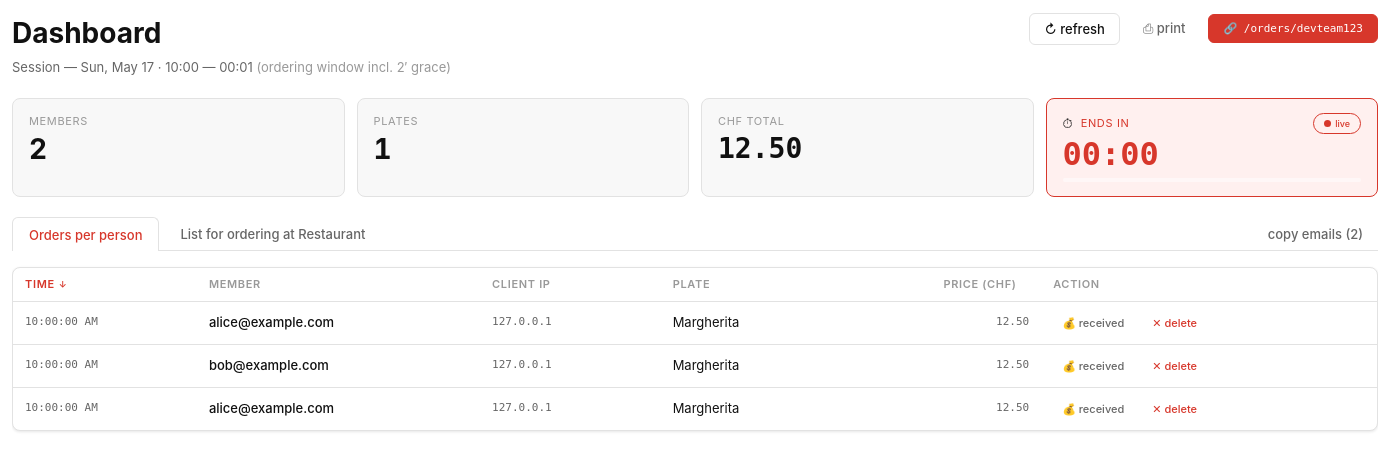
Test: CPODashboard › copy emails › copies a deduplicated comma-separated list and flips the label
What coordinates should you click on to do the following:
click the button "copy emails (2)"
I would click on:
 (1315, 234)
Its box is [1253,217,1378,250].
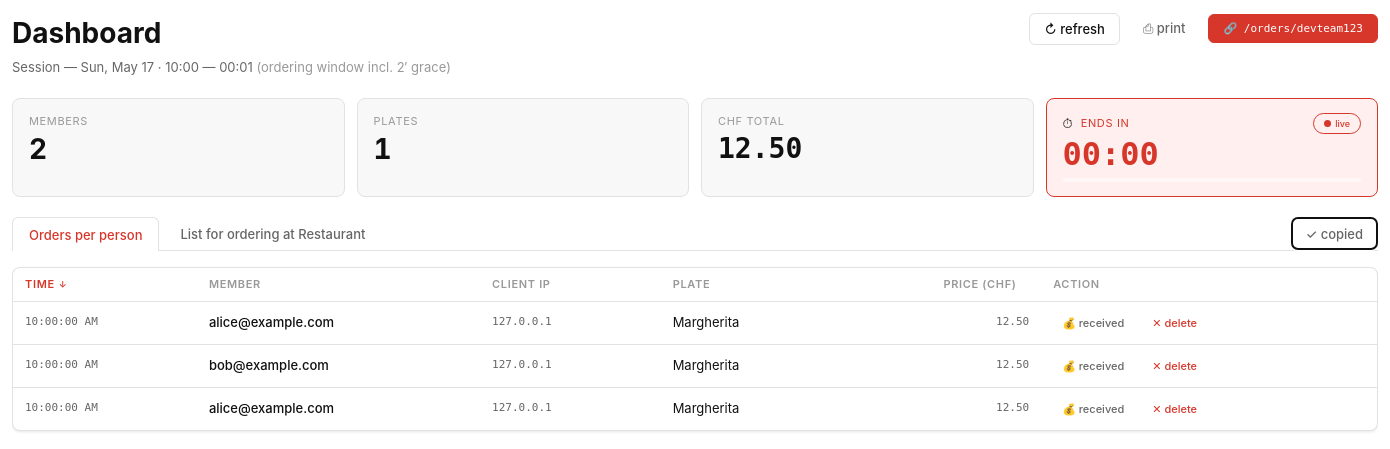
Expected: the button "✓ copied" is shown, [1291,217,1378,250]
